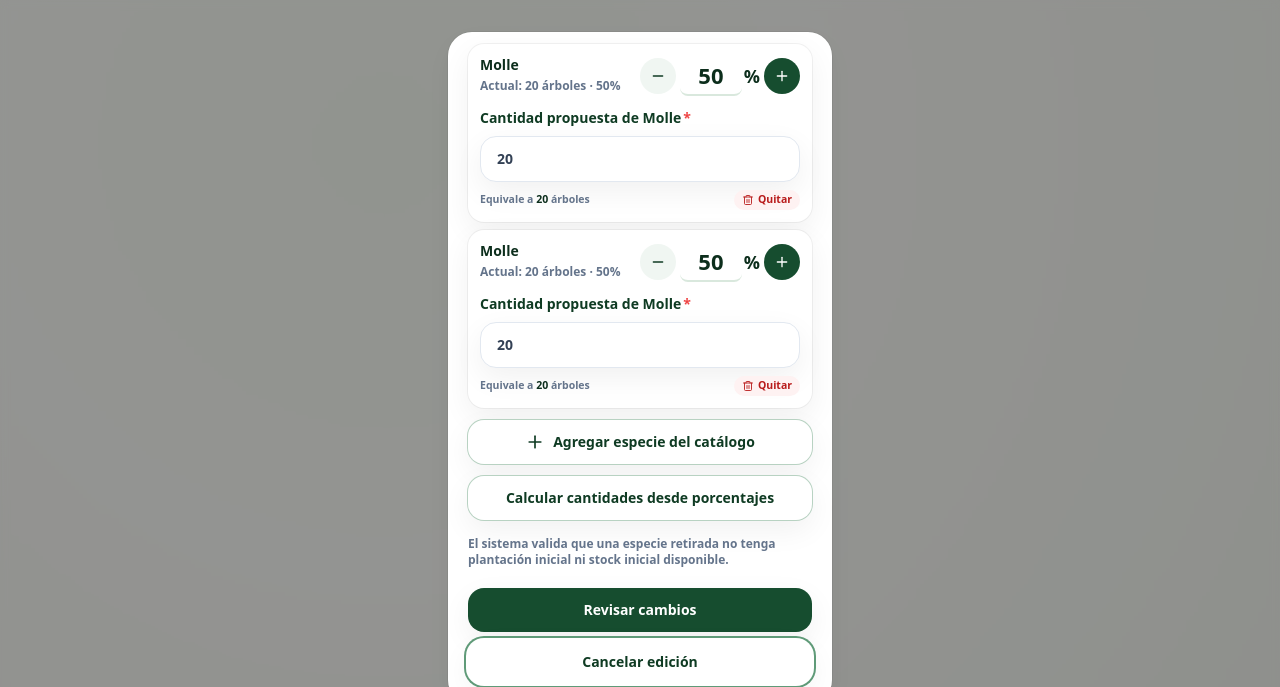
it: Editor de revisión de metas y especies › impide guardar un plan con especies duplicadas
(page scrolled)
Click the button "Revisar cambios". click: (640, 610)
box: x1=468 y1=588 x2=812 y2=632
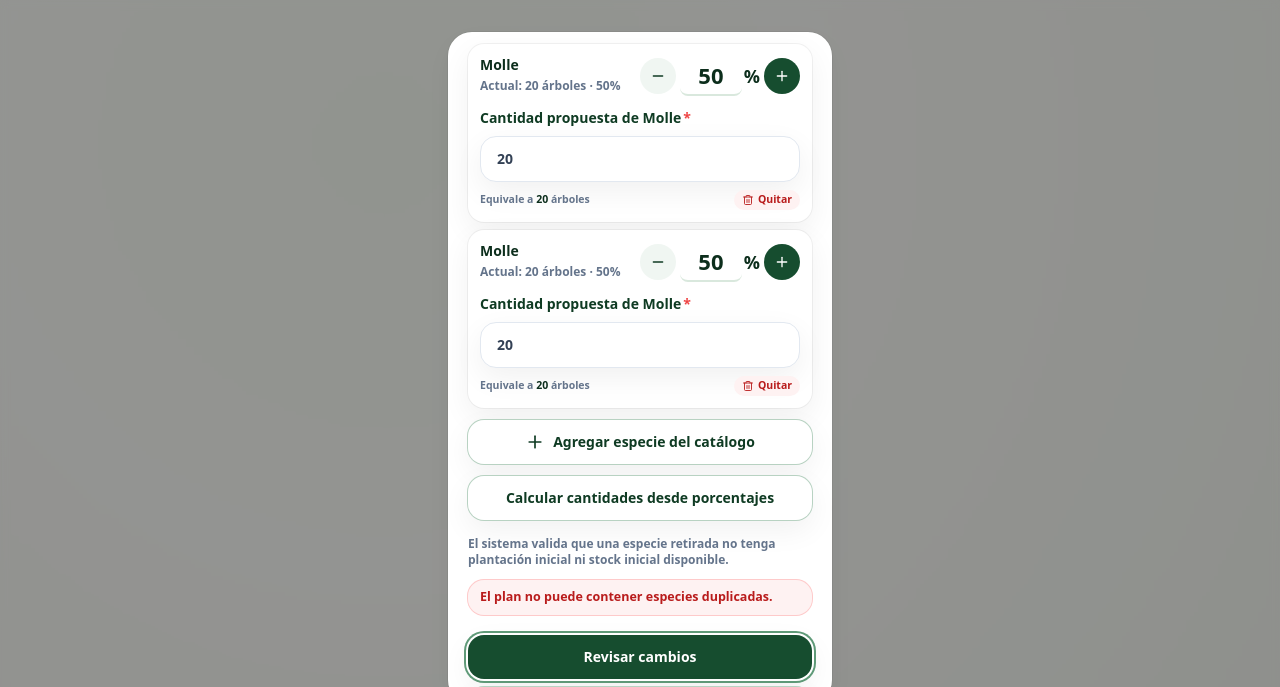
Now the text "El plan no puede contener especies duplicadas." is shown, box x1=468 y1=580 x2=812 y2=615
